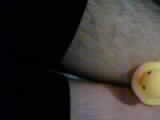duck: (121, 54, 154, 110)
